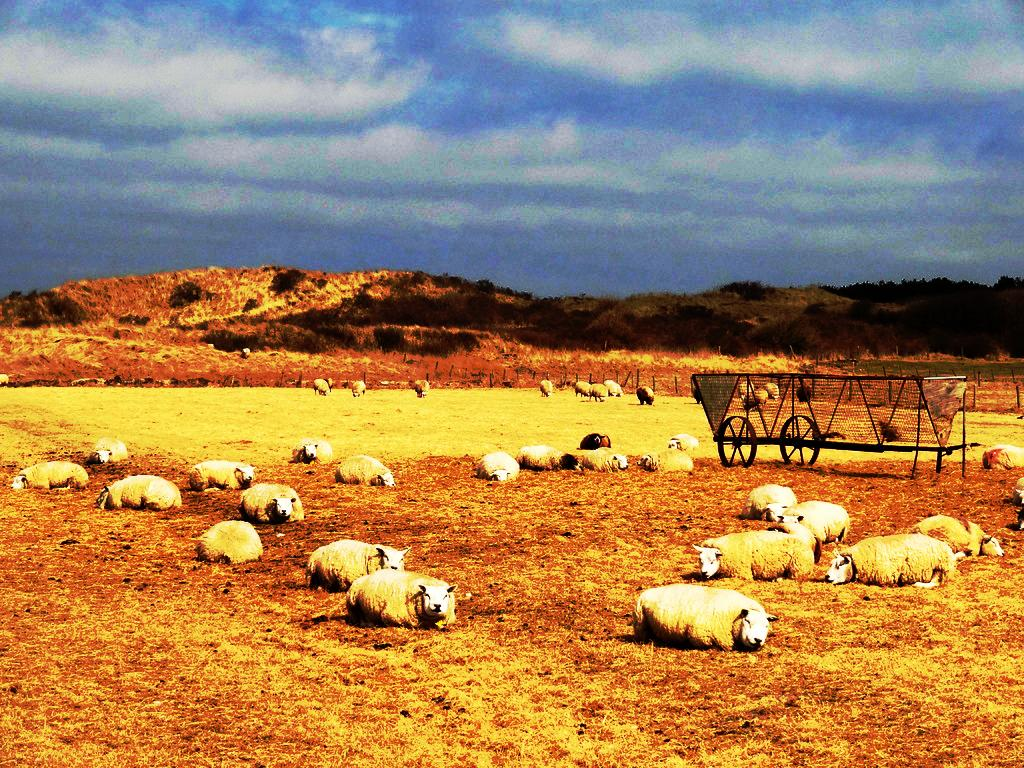Sheep: (0, 349, 1024, 651), (622, 574, 786, 654), (334, 556, 470, 639), (692, 534, 830, 585), (232, 481, 316, 535)
